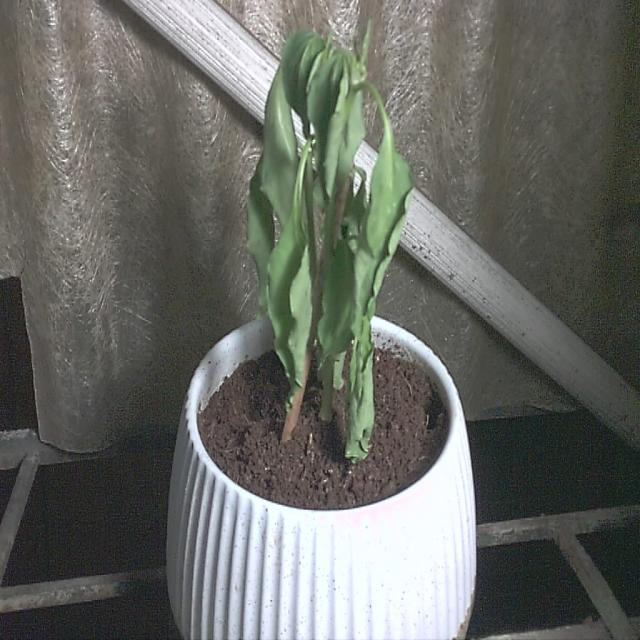Leaf: (353, 137, 412, 348), (264, 210, 310, 412), (260, 66, 302, 240)
